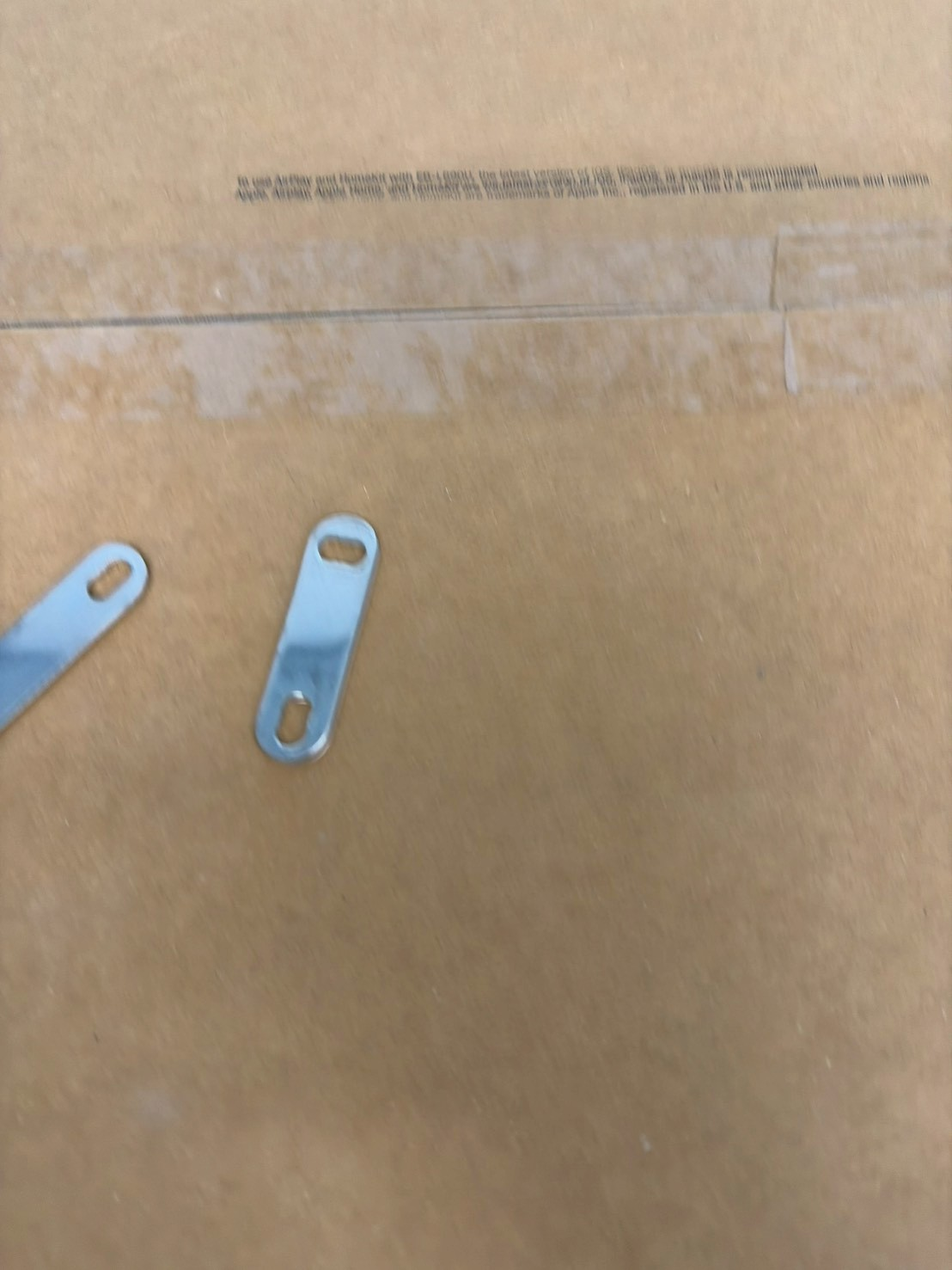Fe: (0, 537, 179, 744), (260, 492, 389, 762)
